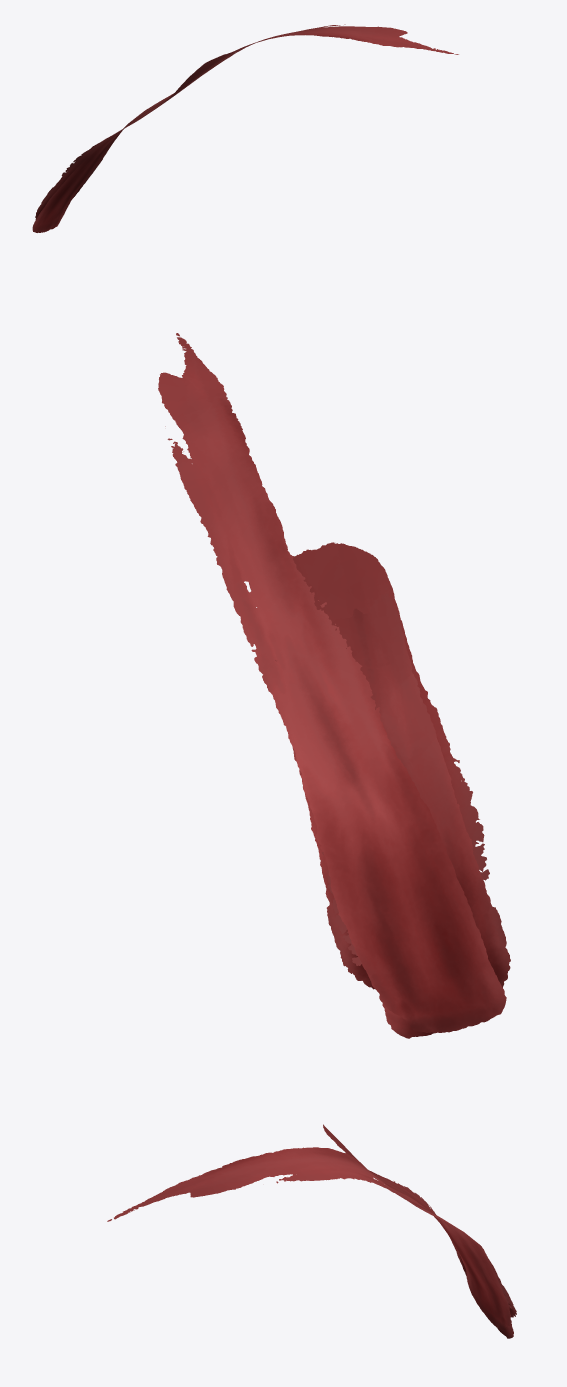
File: Cinture.fbx
3 views of the same model, one above another, from view 1: azimuth 30°, elevation 25°; view 2: azimuth 150°, elevation 25°; view 3: azimuth 270°, elevation 25° (orthographic). The views are drawn at different scales.
Parts seen in each view (by area): view 1: Segno_Cintura2, Segno_Cintura3, Segno_Cintura4; view 2: Segno_Cintura2, Segno_Cintura3, Segno_Cintura4; view 3: Segno_Cintura2, Segno_Cintura4, Segno_Cintura3.
Boxes of the visible parts, x1,y1,x2,y2 form: Segno_Cintura2: (32, 24, 458, 232); Segno_Cintura3: (35, 77, 196, 229); Segno_Cintura4: (61, 52, 230, 197); Segno_Cintura2: (158, 333, 506, 1032); Segno_Cintura3: (322, 588, 510, 1038); Segno_Cintura4: (249, 542, 489, 989); Segno_Cintura2: (107, 1147, 511, 1331); Segno_Cintura4: (323, 1124, 516, 1317); Segno_Cintura3: (371, 1172, 513, 1338).
Size of the model in its own units: 32.09 by 17.92 by 26.14.
